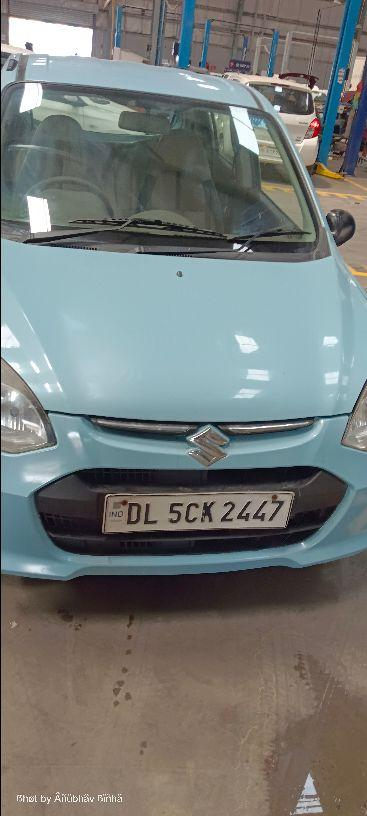license_plate: (101, 489, 295, 534)
